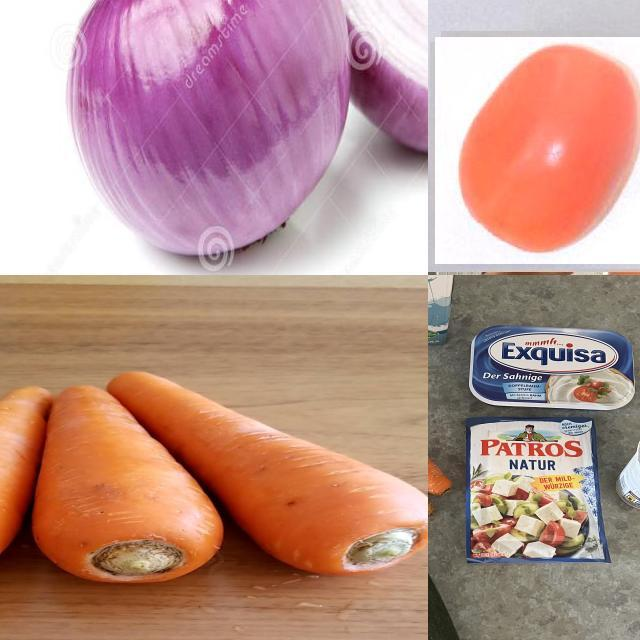carrot: (111, 369, 429, 575), (29, 382, 223, 586), (1, 383, 52, 583), (429, 398, 471, 503)
onion: (62, 1, 354, 259), (314, 1, 429, 160)
tomato: (436, 38, 640, 265)
zucchini: (429, 505, 492, 640)
